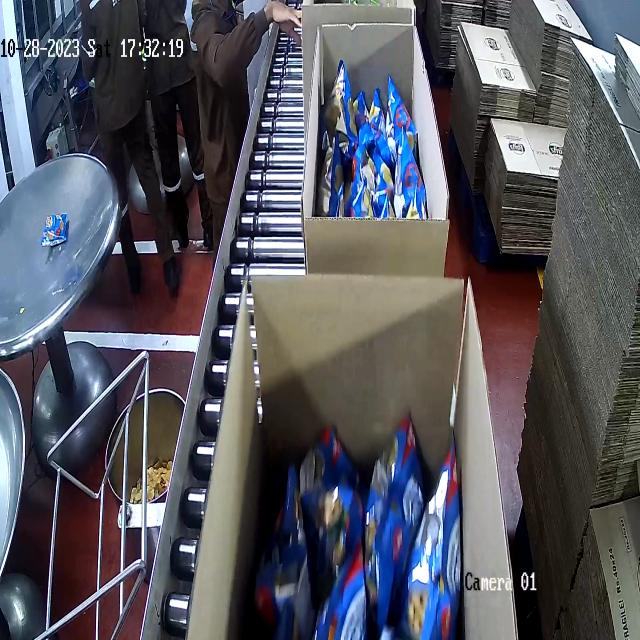PAPRIKA: (268, 414, 452, 640), (321, 76, 426, 224)
